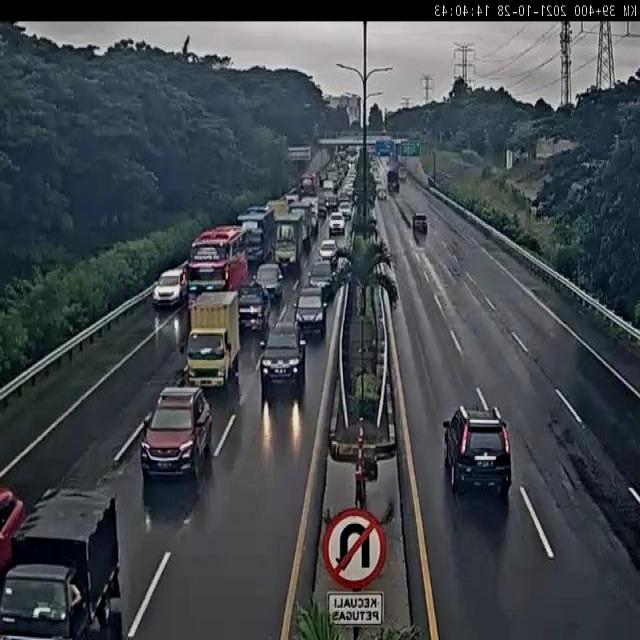Car: (433, 383, 533, 512), (142, 384, 213, 481), (258, 325, 304, 401), (293, 292, 327, 342), (237, 281, 270, 332), (254, 262, 284, 305), (307, 259, 334, 295), (318, 239, 338, 264), (328, 212, 345, 235), (412, 213, 428, 234)
Truck: (3, 489, 123, 638), (186, 290, 242, 389), (144, 459, 208, 530), (188, 225, 249, 298), (330, 418, 382, 476), (333, 270, 356, 387), (0, 489, 26, 587), (236, 205, 277, 266), (274, 210, 307, 276), (350, 372, 383, 432), (153, 265, 190, 308), (288, 200, 316, 247), (267, 318, 299, 355), (206, 225, 244, 244), (266, 198, 289, 229), (331, 255, 351, 288), (342, 160, 357, 198), (299, 172, 319, 198), (336, 145, 358, 168), (372, 260, 390, 286), (335, 238, 351, 264), (373, 162, 385, 194), (244, 206, 271, 220), (172, 366, 190, 386), (387, 167, 400, 194), (431, 170, 453, 185), (530, 200, 546, 220), (368, 212, 379, 240), (324, 190, 338, 212), (386, 154, 400, 176), (413, 227, 427, 249), (447, 256, 461, 277), (179, 261, 191, 285), (338, 190, 352, 210), (288, 151, 303, 169), (358, 148, 370, 170), (581, 159, 604, 170), (288, 146, 309, 158), (399, 209, 412, 228), (339, 202, 352, 220), (309, 200, 319, 223), (394, 138, 408, 153), (322, 290, 332, 311), (338, 130, 359, 140), (322, 180, 336, 194), (318, 200, 328, 219), (312, 121, 319, 146), (284, 193, 298, 205), (319, 172, 329, 188), (460, 160, 476, 169), (366, 143, 377, 156), (350, 116, 360, 130), (506, 150, 513, 170), (288, 186, 299, 198), (427, 174, 437, 187), (368, 194, 376, 210), (298, 177, 306, 193), (399, 166, 407, 181), (369, 206, 376, 223), (376, 149, 386, 160), (314, 172, 321, 184), (421, 129, 428, 139)
